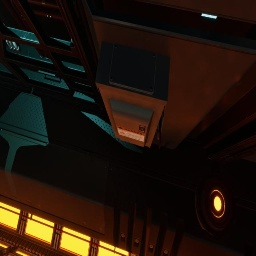SafetySwitchPanel ,: (95, 41, 170, 151)
